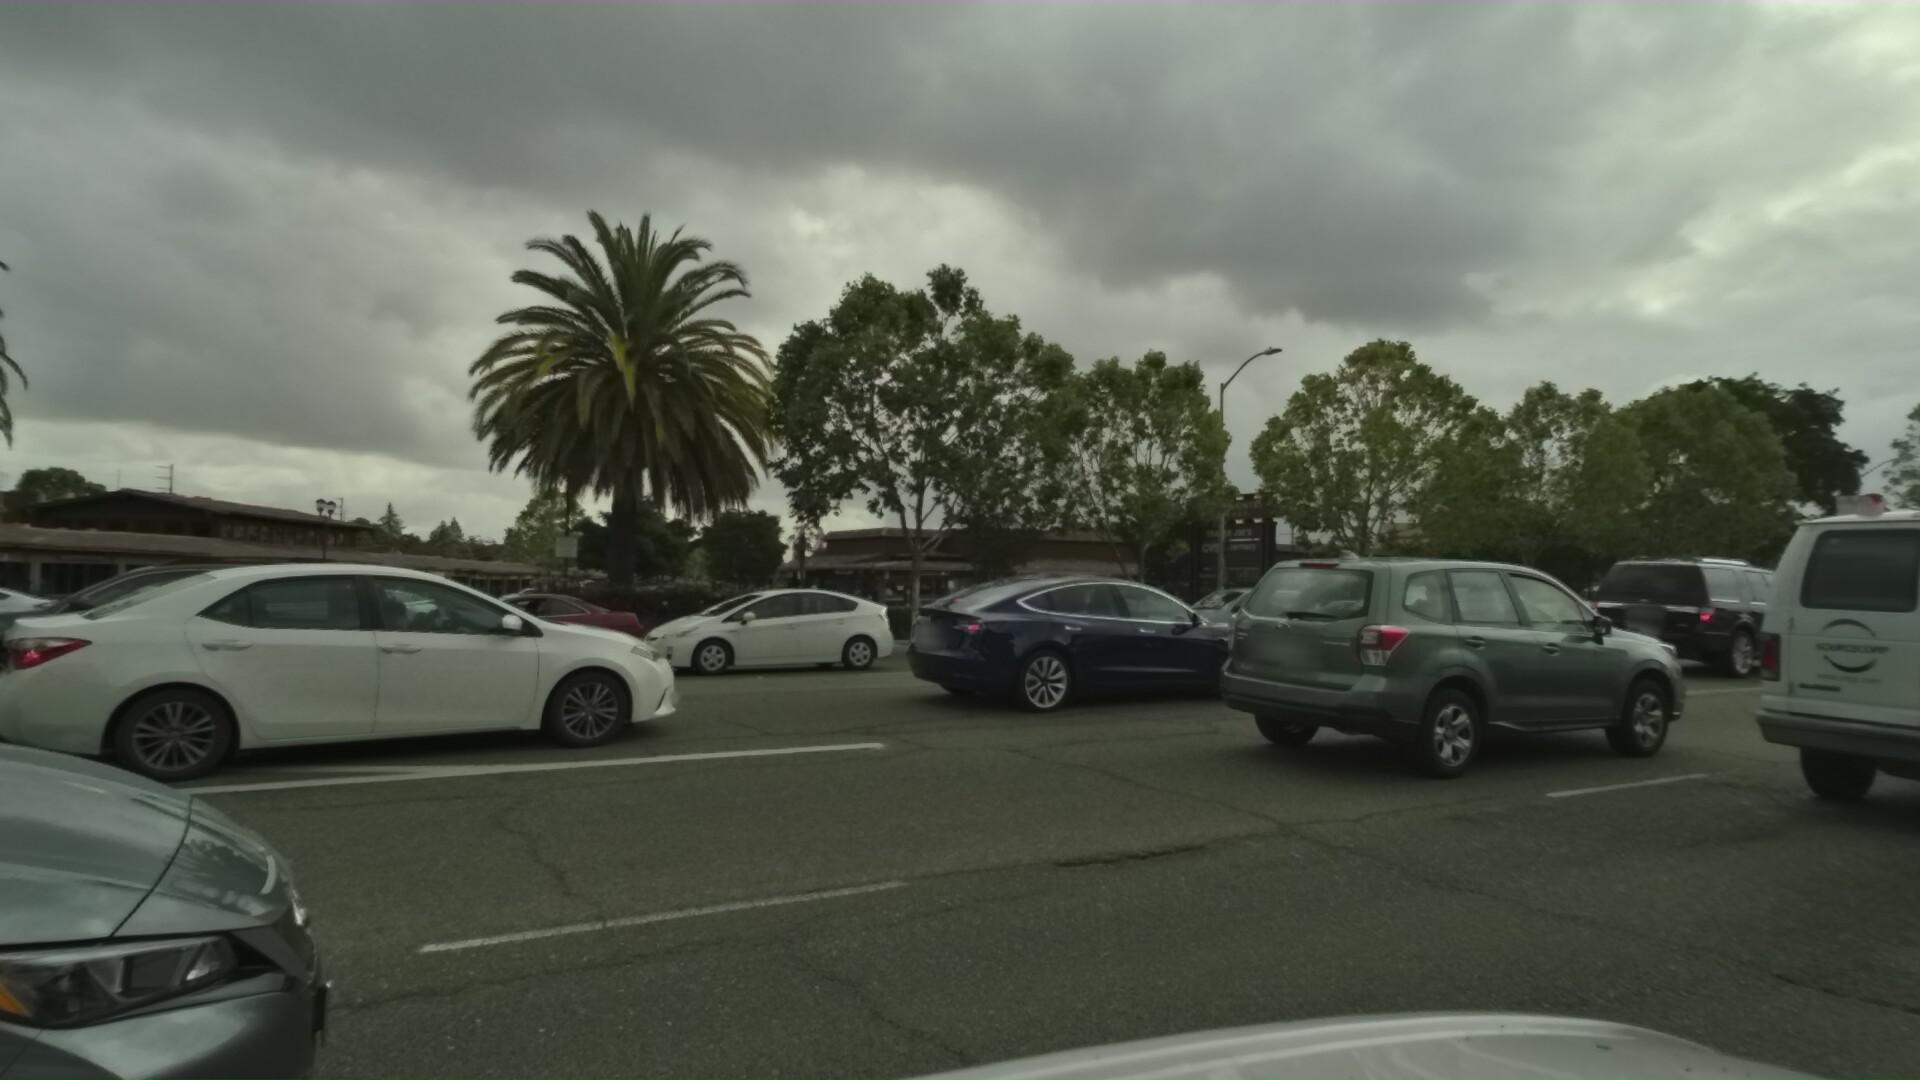car: (0, 531, 705, 796), (1192, 537, 1710, 791), (1746, 473, 1920, 884), (0, 539, 361, 731), (869, 571, 1290, 731), (1304, 568, 1625, 694), (1575, 556, 1862, 688), (600, 579, 873, 679), (384, 585, 640, 669), (1127, 578, 1302, 647), (1455, 589, 1611, 651), (0, 583, 63, 655)
